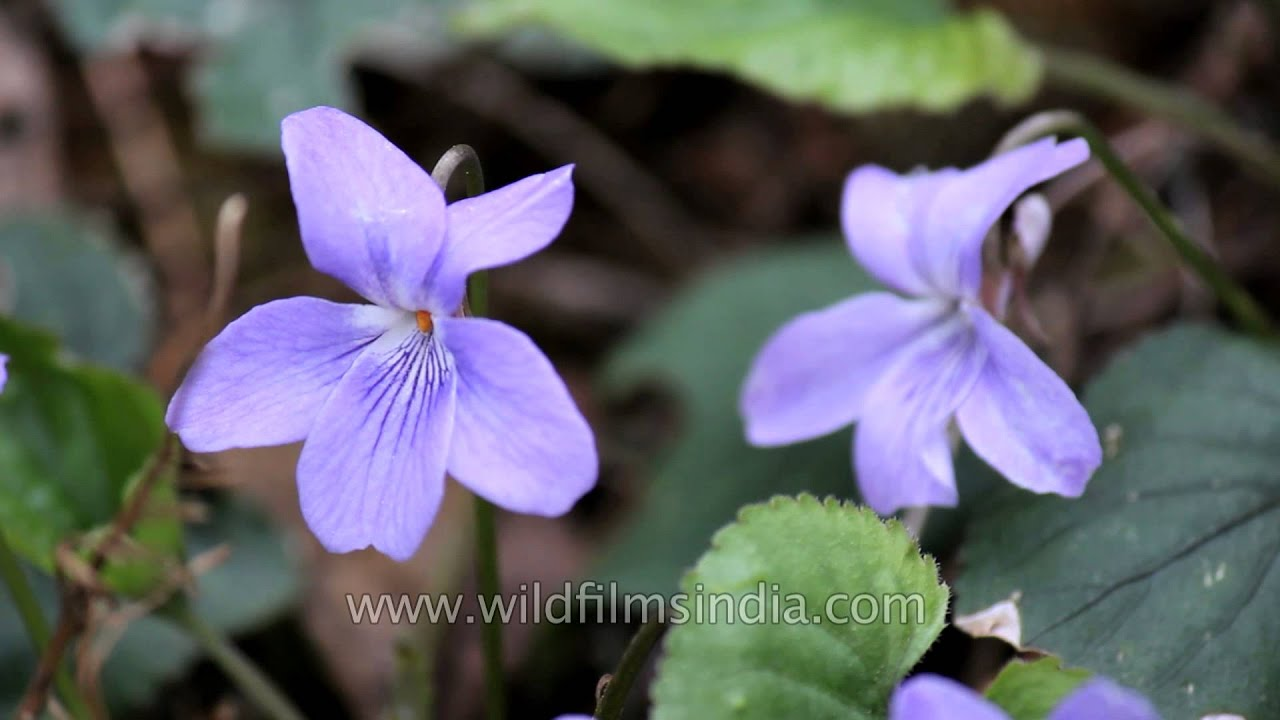violet: (166, 96, 594, 540), (738, 104, 1118, 494)
